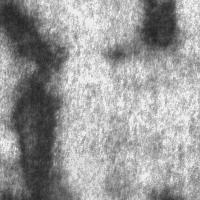patches: (6, 68, 74, 200), (1, 1, 66, 79), (44, 153, 118, 200), (139, 1, 178, 48)
